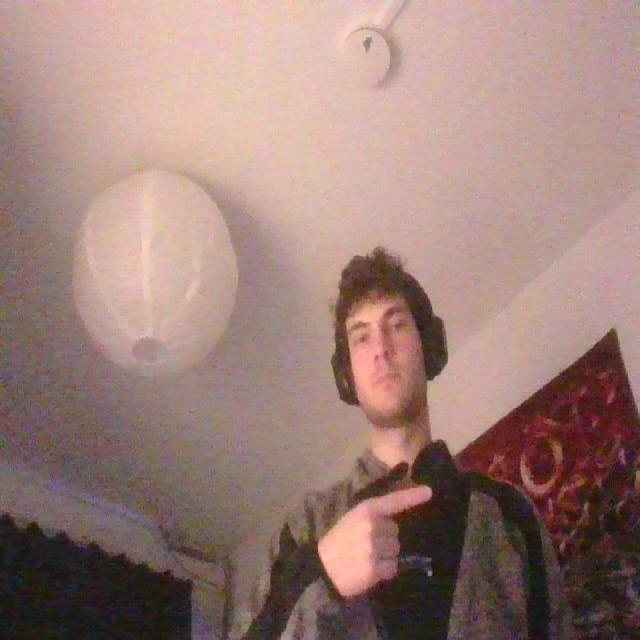right: (308, 484, 439, 592)
